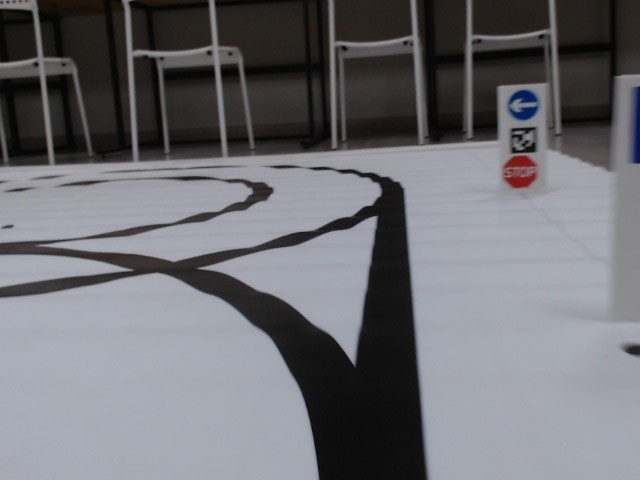Stop: (503, 155, 540, 188)
